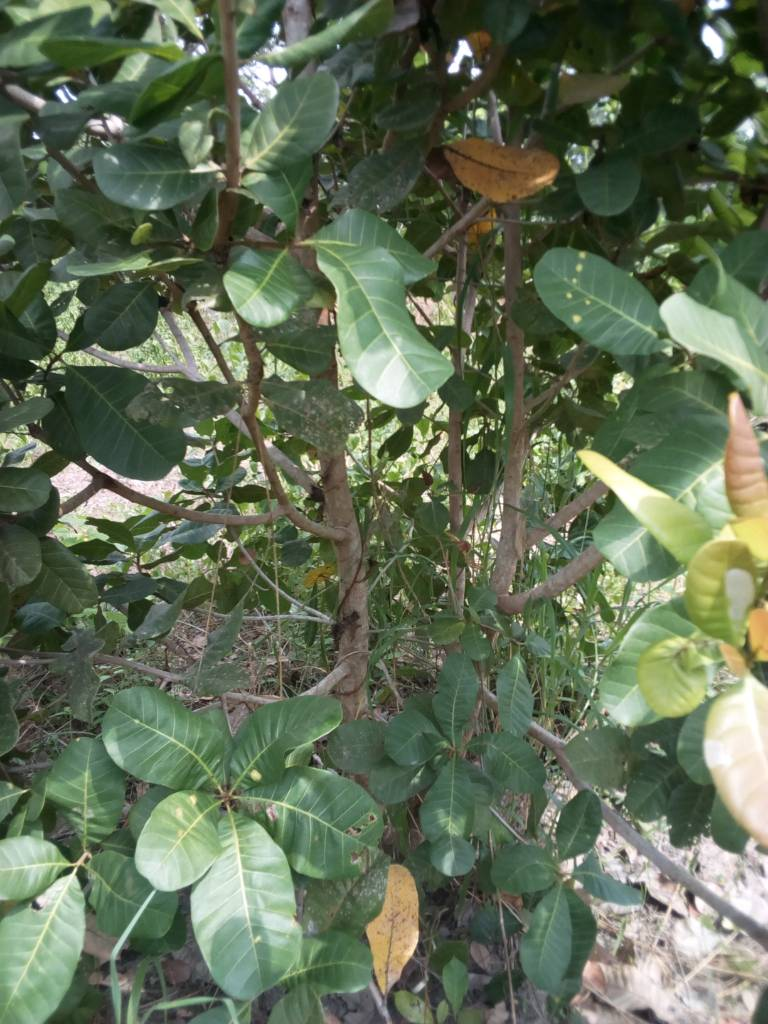Anthracnose: (441, 138, 561, 203)
